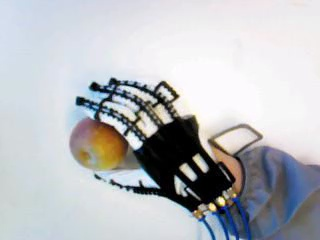apple: (69, 116, 128, 169)
hand: (74, 76, 233, 220)
